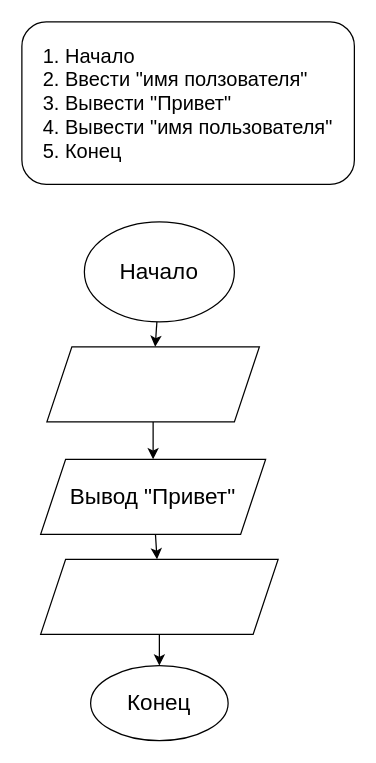
This 376x763 diagram has some shape labels left out. The centre of each missing label's shape, as x and y in pixels:
Ввод username: point 152,384
Вывод username: point 158,596
